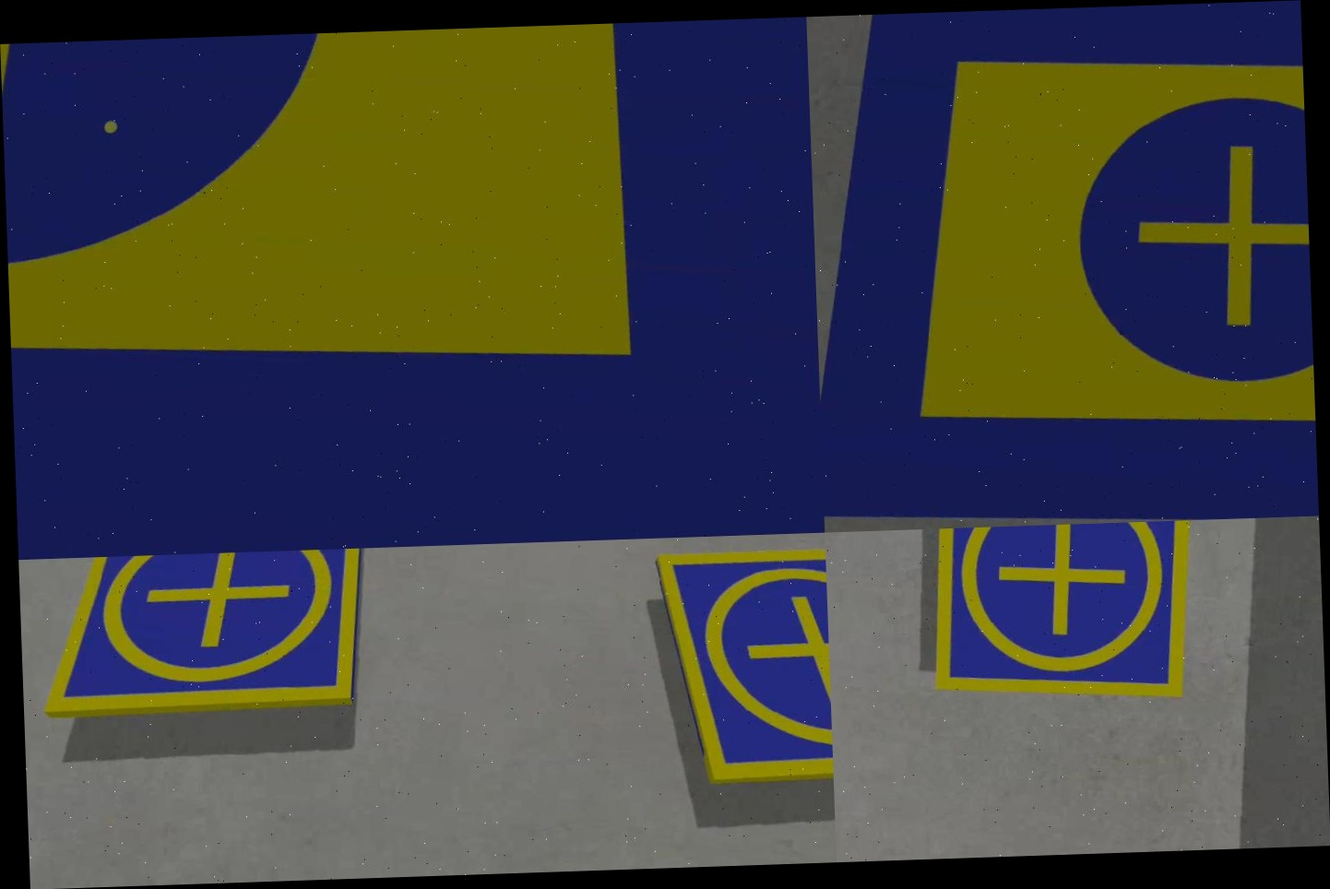large_base: (0, 17, 825, 560), (806, 0, 1318, 533)
small_base: (39, 548, 379, 742), (916, 520, 1207, 715), (635, 533, 835, 810)
